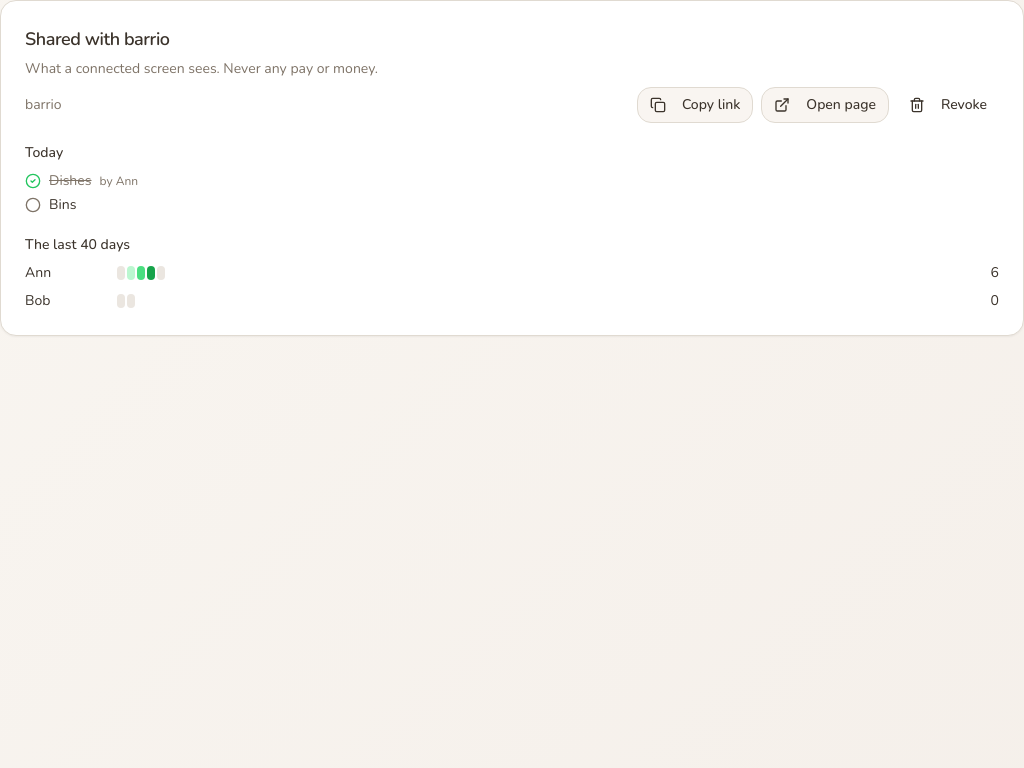
it: SharedWithBarrio › lets an admin copy the link, open its page, and revoke it
Click the button "Copy link": (695, 105) [637,87,753,123]
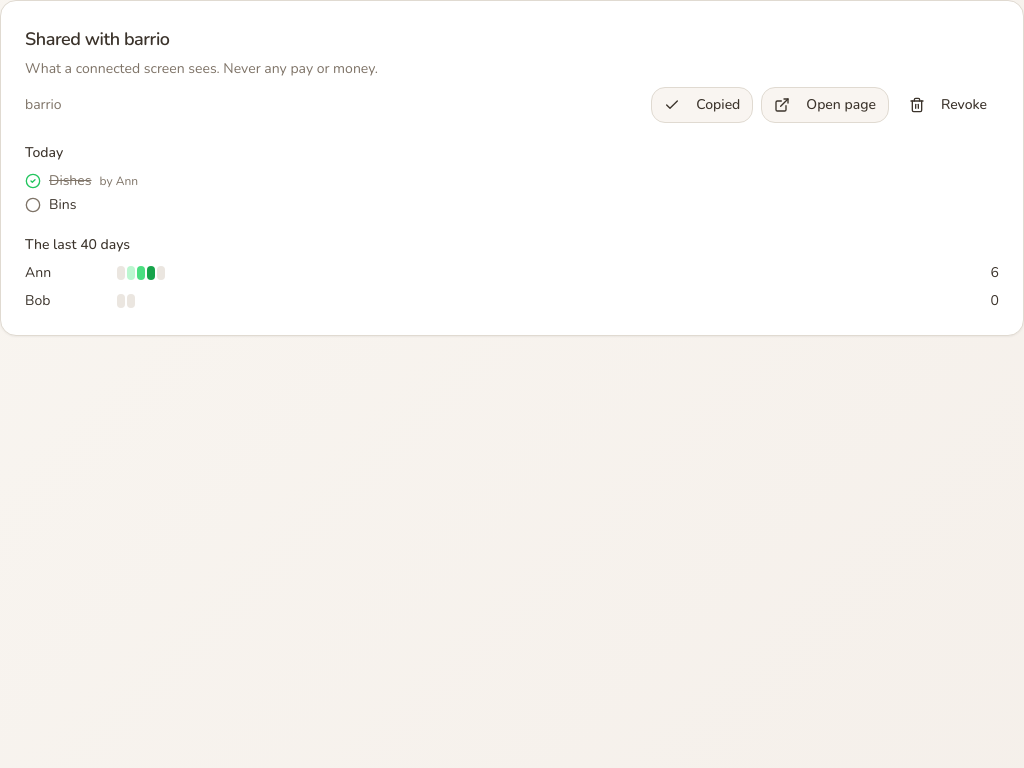
Result: the button "Copied" is shown at [651,87,753,123]
Click the button "Revoke": (948, 105) [897,87,999,123]
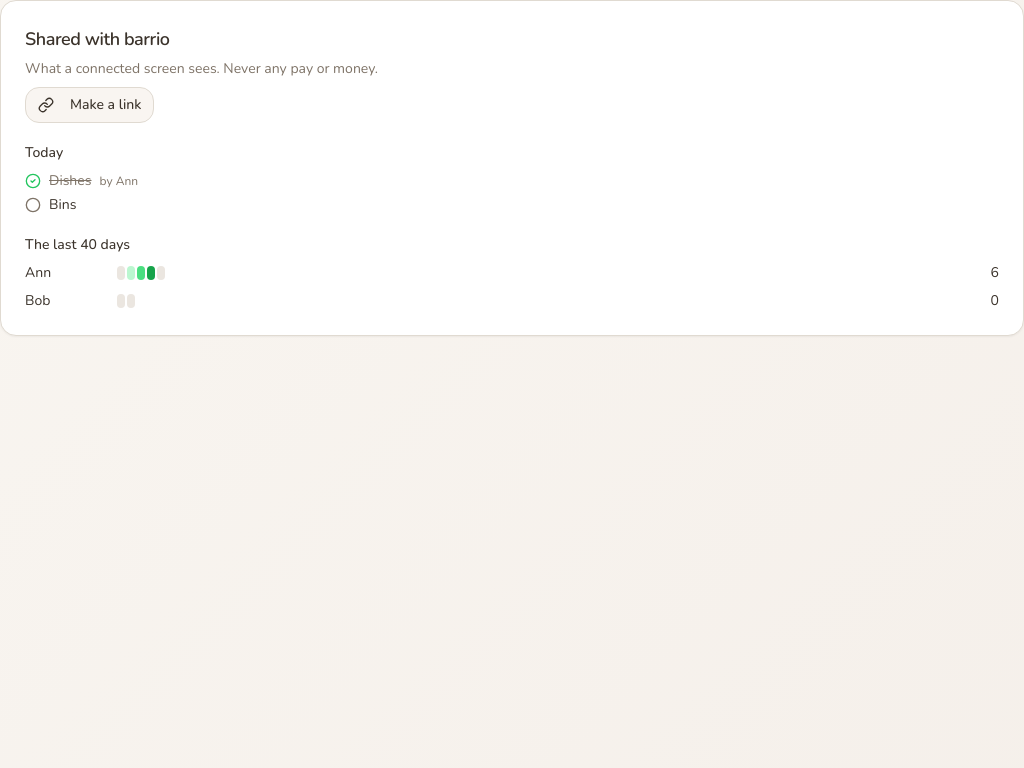
Result: the button "Make a link" is shown at [25,87,154,123]
